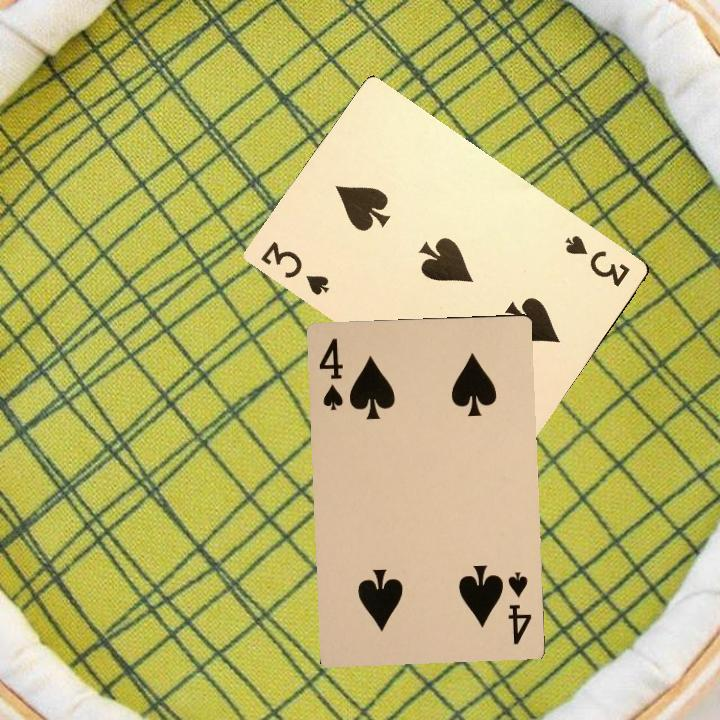3s: (256, 237, 332, 298), (560, 231, 633, 289)
4s: (314, 334, 346, 413), (504, 568, 534, 647)
